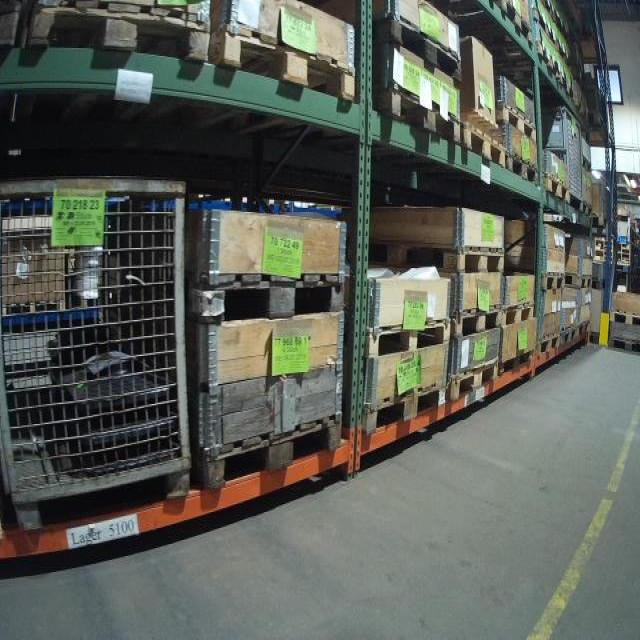pallet: (23, 1, 212, 67), (202, 22, 352, 105), (194, 412, 342, 495), (360, 12, 467, 86), (181, 267, 345, 315), (364, 84, 459, 150), (368, 234, 507, 276), (362, 381, 452, 441), (362, 316, 454, 359), (452, 117, 504, 177), (449, 354, 499, 407), (478, 8, 538, 50), (455, 297, 505, 343), (509, 43, 563, 82), (492, 102, 537, 145), (438, 1, 511, 23), (503, 154, 540, 191), (497, 299, 539, 331), (498, 347, 537, 377), (528, 14, 563, 46), (542, 174, 570, 206), (532, 331, 558, 365), (534, 269, 567, 294), (564, 273, 596, 294), (609, 333, 640, 354), (610, 310, 639, 327), (579, 151, 594, 174), (564, 323, 576, 351), (579, 317, 594, 336), (581, 202, 595, 220)
stillage: (4, 177, 197, 533), (538, 100, 585, 215), (577, 76, 609, 134)
